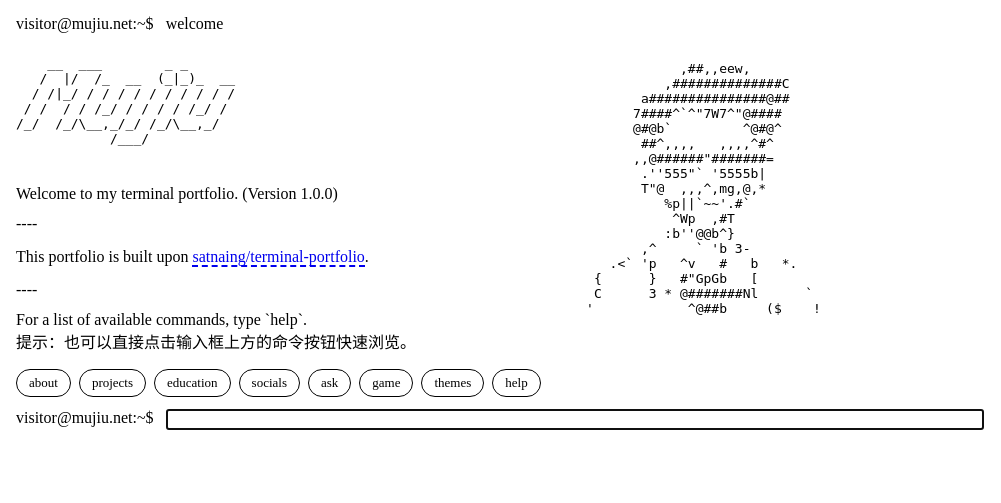
Terminal Component › Input Commands › should return '/home/mujiu' when user type 'pwd' cmd
The width and height of the screenshot is (1001, 503).
Type "pwd" into the field titled "terminal-input".
click(575, 420); type("pwd")  # box [166,409,984,430]
Then press Enter
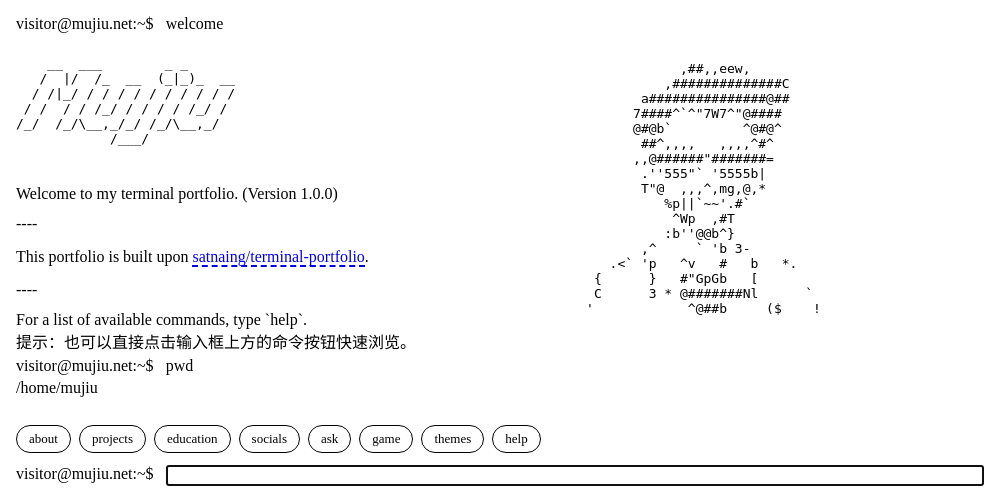
Expected: the text "/home/mujiu" is shown, [16,379,98,396]
